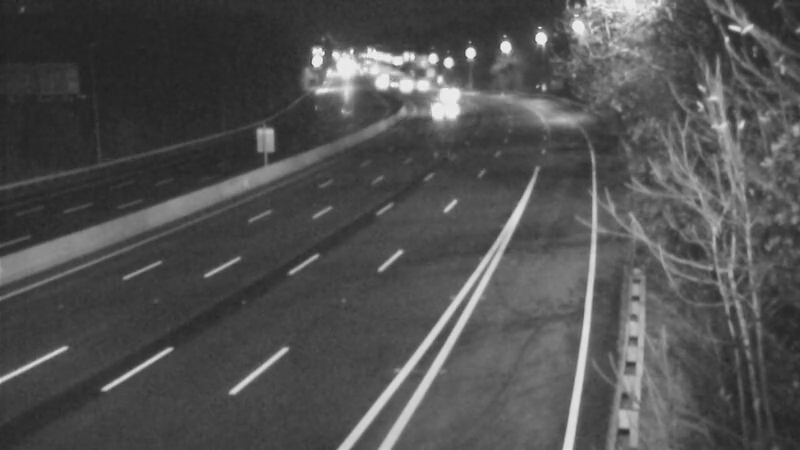vehicle: (396, 59, 446, 109), (379, 61, 429, 111), (428, 62, 478, 112), (420, 84, 470, 134)
